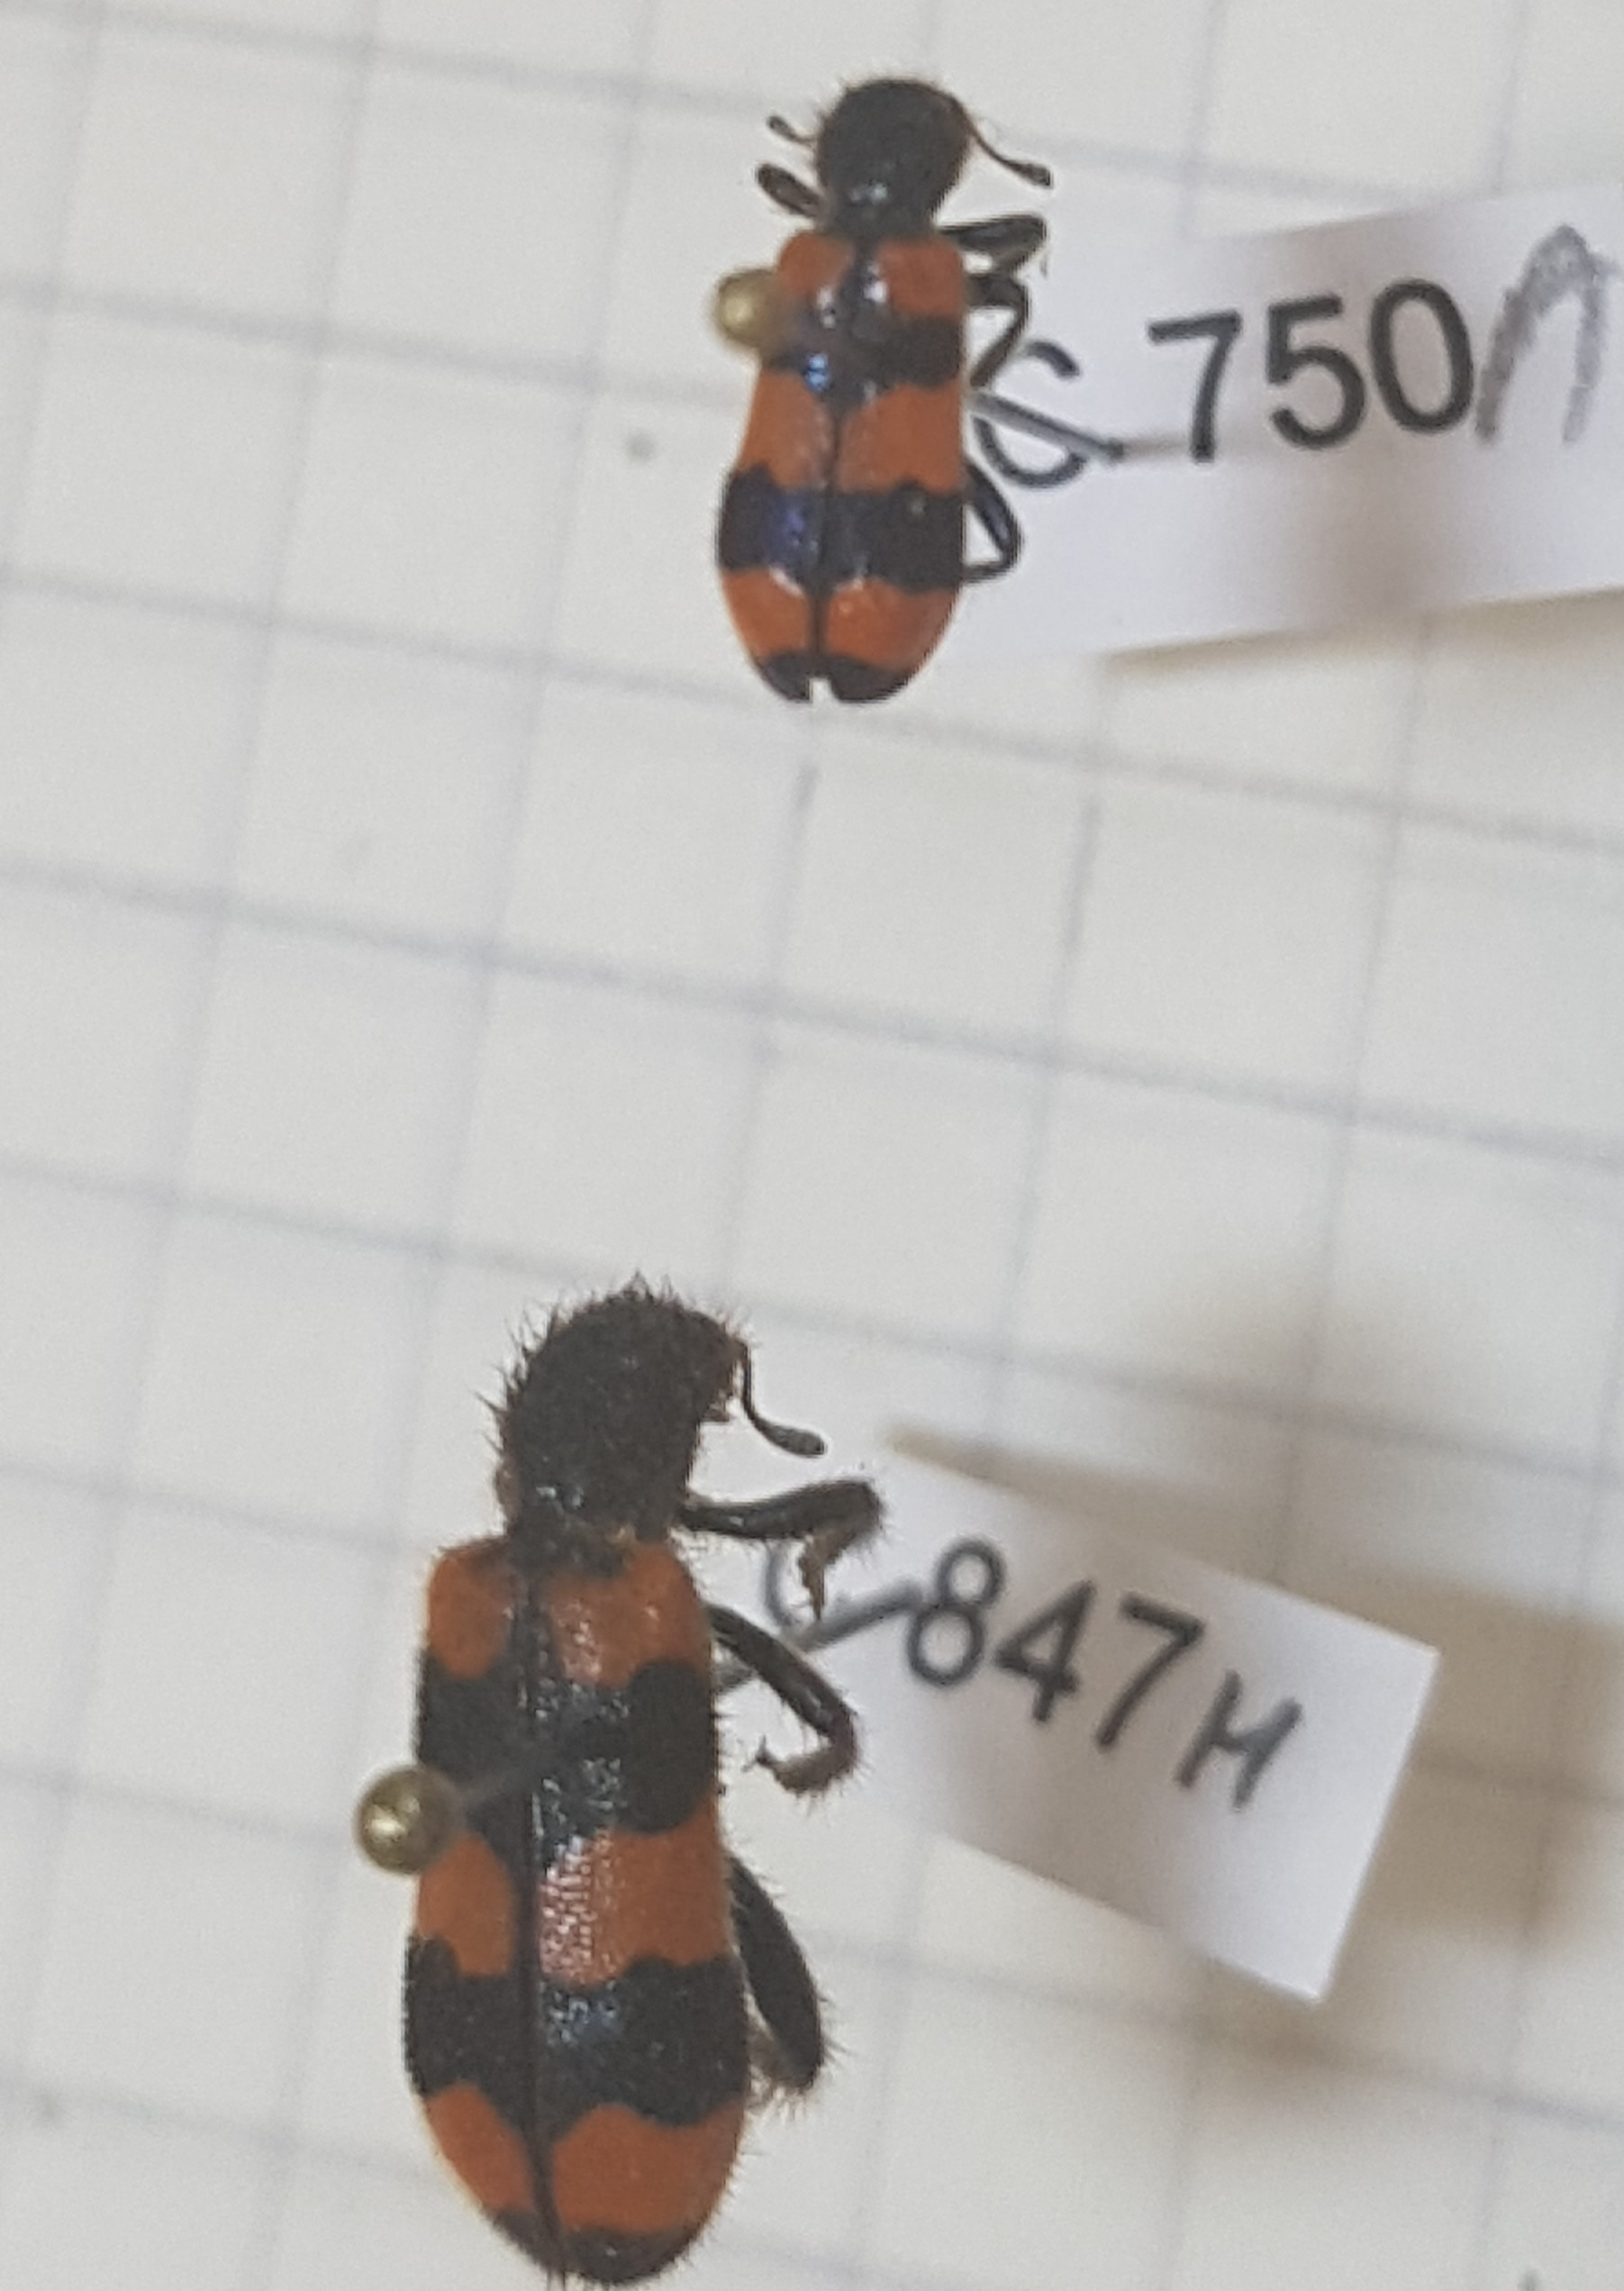trichodes_apiarius: (362, 1248, 914, 2291), (689, 40, 1086, 724)
